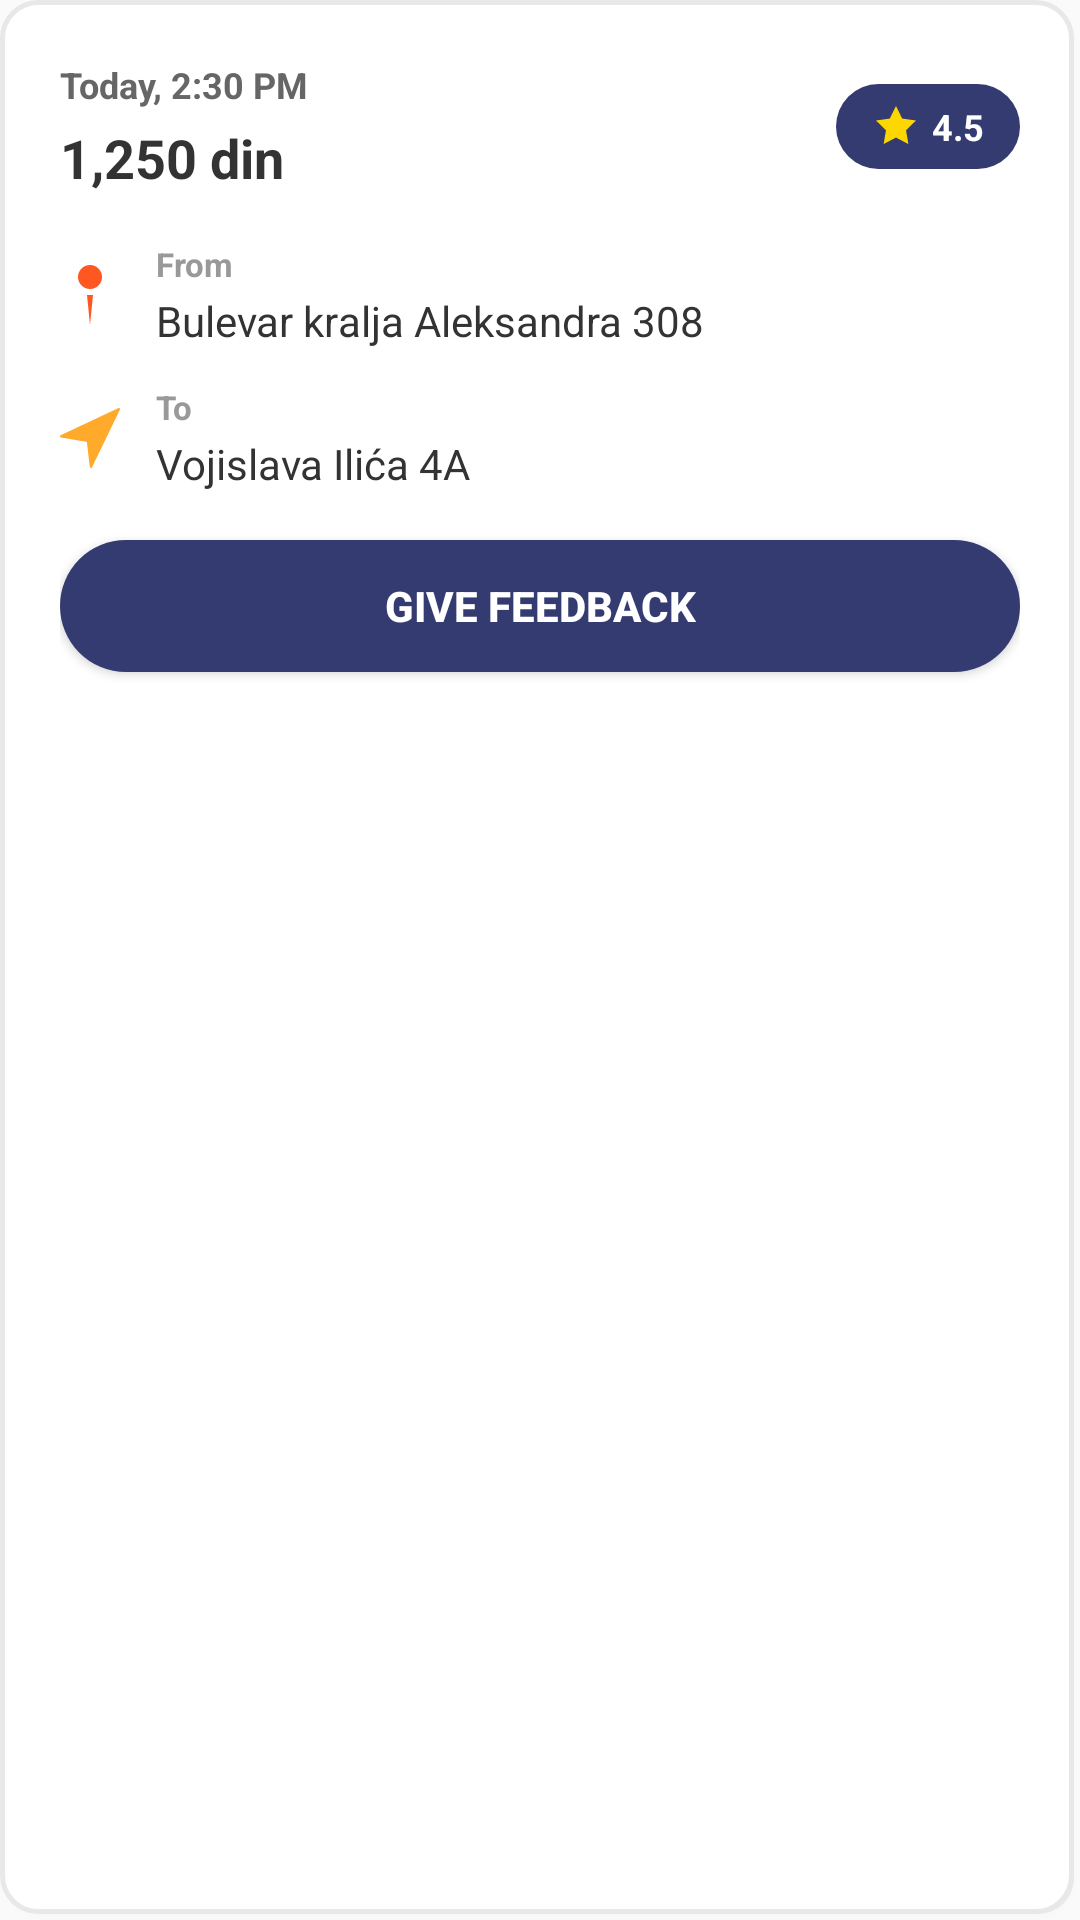

Point at icon controls on the screen. Image size 1080 x 1920, points as (x=x, y=y).
navigation: (x=90, y=438)
point: (x=90, y=294)
star: (x=896, y=125)
